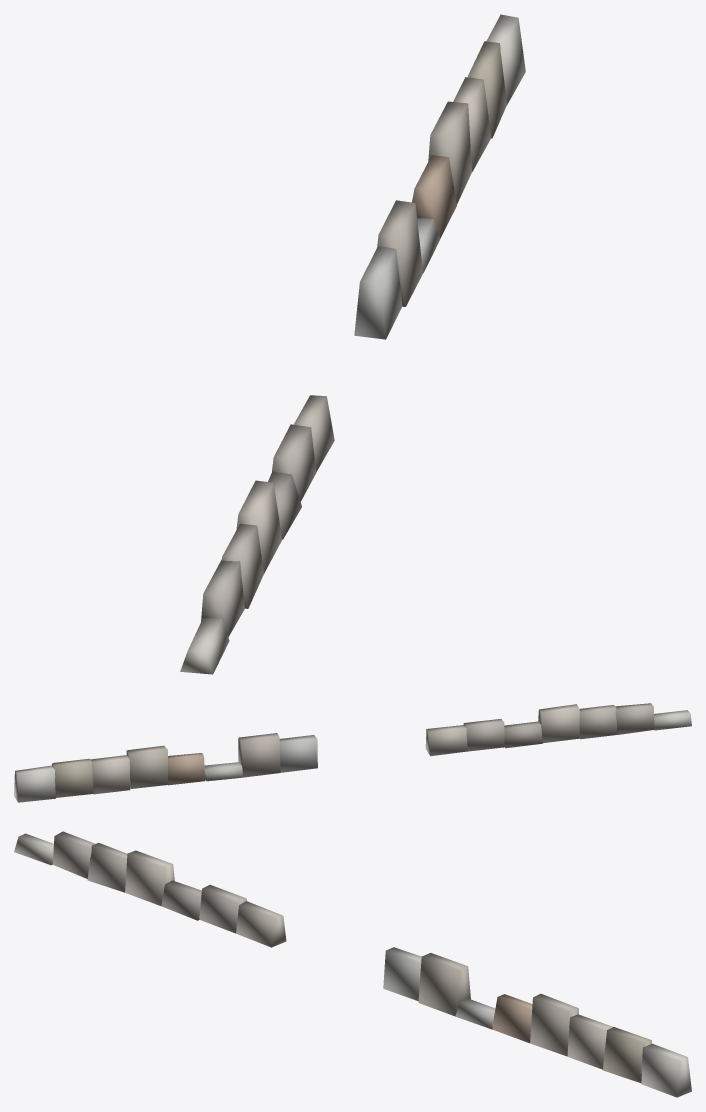
The model's file is farm_-11_-12_far.glb.
3 renders of one model, top to bottom at view 1: azimuth 30°, elevation 25°; view 2: azimuth 150°, elevation 25°; view 3: azimuth 270°, elevation 25°, orthographic. The views are drawn at different scales.
Visible parts, largest first — view 1: geometry_0; view 2: geometry_0; view 3: geometry_0.
Part boxes in pixels (left/top/right/bottom): geometry_0: left=180, top=14, right=525, bottom=674; geometry_0: left=14, top=703, right=691, bottom=802; geometry_0: left=14, top=831, right=691, bottom=1097.
Size of the model in its own units: 19.58 by 1.92 by 21.06.
